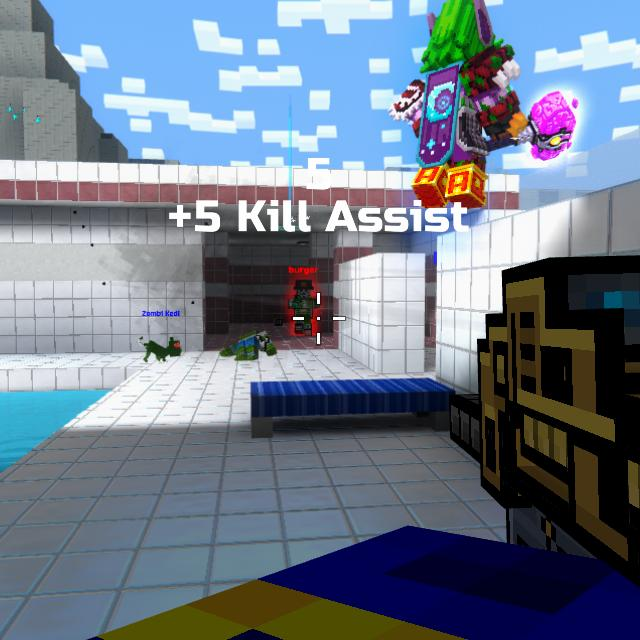Enemy: (286, 279, 319, 335)
